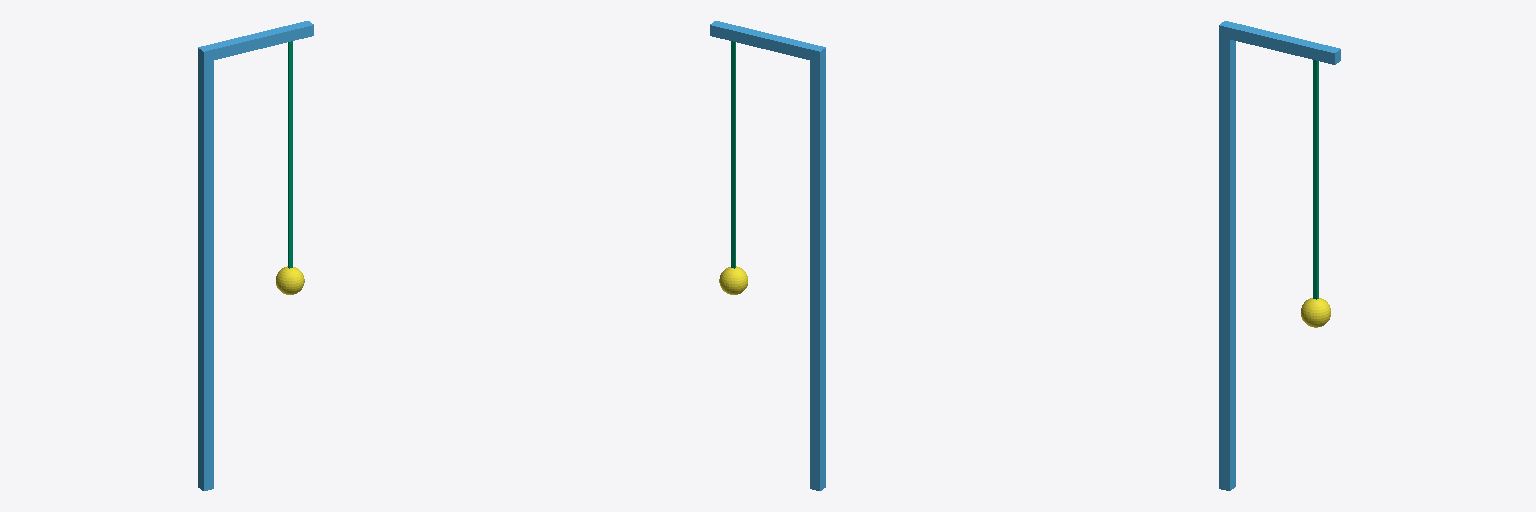
The robot description file, URDF, robot "camel_dong_dog":
<?xml version="1.0" ?>
<robot name="camel_dong_dog">

  <material name="Black">
    <color rgba="0.0 0.0 0.0 1.0"/>
  </material>

  <material name="blue">
    <color rgba="0.0 0.0 1.0 1.0"/>
  </material>

  <material name="red">
    <color rgba="1.0 0.0 0.0 1.0"/>
  </material>


  <link name="world"/>

  <joint name="fixed_world" type="fixed">
    <parent link="world"/>
    <child link="base"/>
  </joint>

  <link name="base">
    <visual>
      <origin rpy="0 0 0" xyz="0 0 0.5"/>
      <geometry>
        <box size="0.025 0.025 1.0"/>
      </geometry>
      <material name="pink"/>
    </visual>
    <visual>
      <origin rpy="0 0 0" xyz="0.125 0 0.9875"/>
      <geometry>
        <box size="0.25 0.025 0.025"/>
      </geometry>
      <material name="pink"/>
    </visual>

    <inertial>
      <mass value="10"/>
      <inertia ixx="1.0" ixy="0.0" ixz="0.0" iyy="1.0" iyz="0.0" izz="1.0"/>
    </inertial>
  </link>

  <joint name="top_roll" type="revolute">
    <origin rpy="0 0 0" xyz="0.2 0 1.0"/>
    <parent link="base"/>
    <child link="wire"/>
    <axis xyz="1 0 0"/>
  </joint>

  <link name="wire">
    <visual>
      <origin rpy="0 0 0" xyz="0 0 -0.3"/>
      <geometry>
        <box size="0.0075 0.0075 0.55"/>
      </geometry>
      <material name="black"/>
    </visual>
  </link>

  <joint name="fixed_ball" type="fixed">
    <origin rpy="0 0 0" xyz="0 0 -0.575"/>
    <parent link="wire"/>
    <child link="ball"/>
  </joint>

  <link name="ball">
    <visual>
    <origin rpy="0 0 0" xyz="0 0 0"/>
      <geometry>
        <sphere radius="0.03"/>
      </geometry>
      <material name="skyblue"/>
    </visual>

    <collision>
      <origin rpy="0 0 0" xyz="0 0 0"/>
      <geometry>
        <sphere radius="0.03"/>
      </geometry>
    </collision>

    <inertial>
      <mass value="5.0"/>
      <inertia ixx="1.0" ixy="0.0" ixz="0.0" iyy="1.0" iyz="0.0" izz="1.0"/>
    </inertial>
  </link>
</robot>

--- Facts derived from the render (not from the file) ---
Views: 3 orthographic renders of the robot side by side, from view 1: azimuth 30°, elevation 25°; view 2: azimuth 150°, elevation 25°; view 3: azimuth 330°, elevation 25°.
Model camel_dong_dog with 4 links and 3 joints (1 revolute, 2 fixed), rooted at world, posed all joints at 0.
Visible links, largest first — view 1: base, wire, ball; view 2: base, wire, ball; view 3: base, wire, ball.
Boxes of the visible links, x1,y1,x2,y2 form: base: (198,21,313,490); wire: (288,41,292,268); ball: (276,266,304,294); base: (710,21,825,490); wire: (731,41,735,268); ball: (719,266,747,294); base: (1219,21,1340,490); wire: (1313,60,1318,299); ball: (1301,298,1330,327).
Bounding box of the posed robot: 0.2625 × 0.06 × 1 m (x, y, z).
Geometry: primitives only (box / cylinder / sphere), no mesh files.